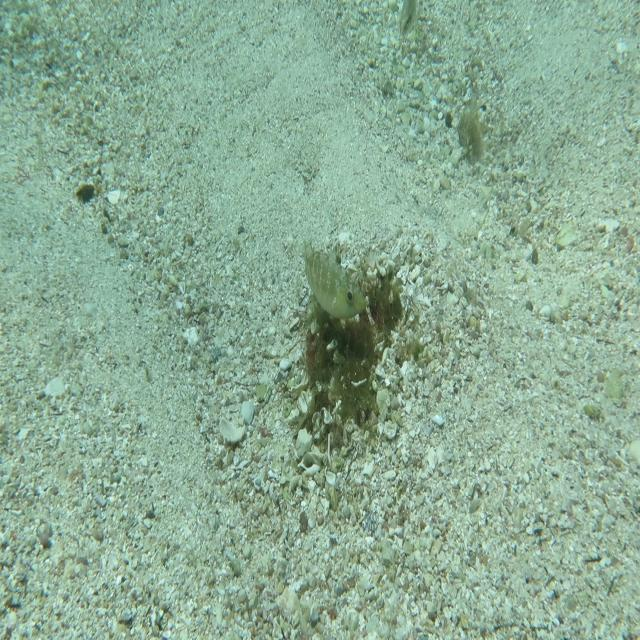FAN: (302, 238, 368, 321)
core_nest: (360, 290, 400, 329)
female: (398, 0, 418, 41)
nest: (290, 252, 420, 464)
vegetation: (456, 101, 488, 171), (77, 181, 98, 205)
